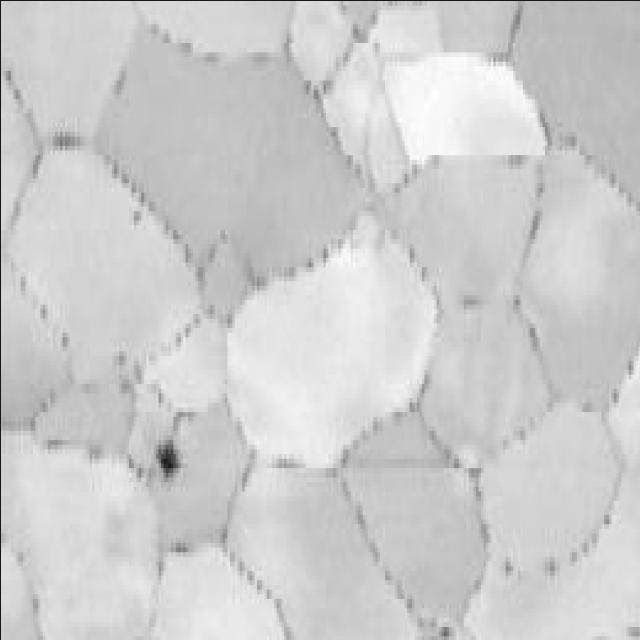good_void: (152, 443, 181, 484)
